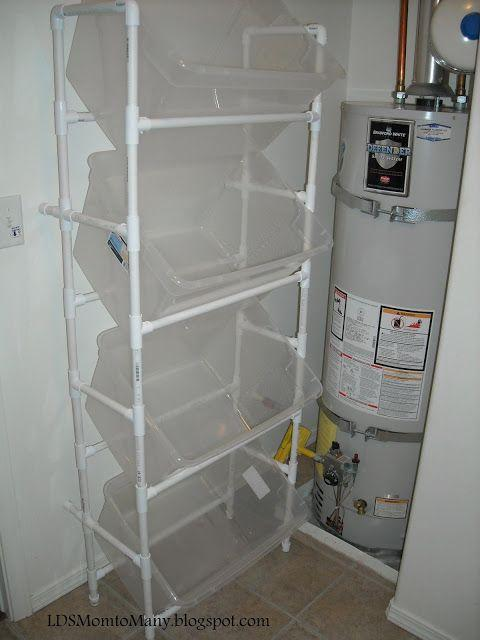PP: (71, 144, 337, 337), (83, 295, 325, 487), (65, 0, 346, 155), (94, 434, 311, 613)
PVC: (51, 2, 101, 608), (279, 22, 327, 554), (123, 0, 155, 640), (124, 104, 323, 144), (51, 0, 140, 32), (241, 23, 325, 49)
